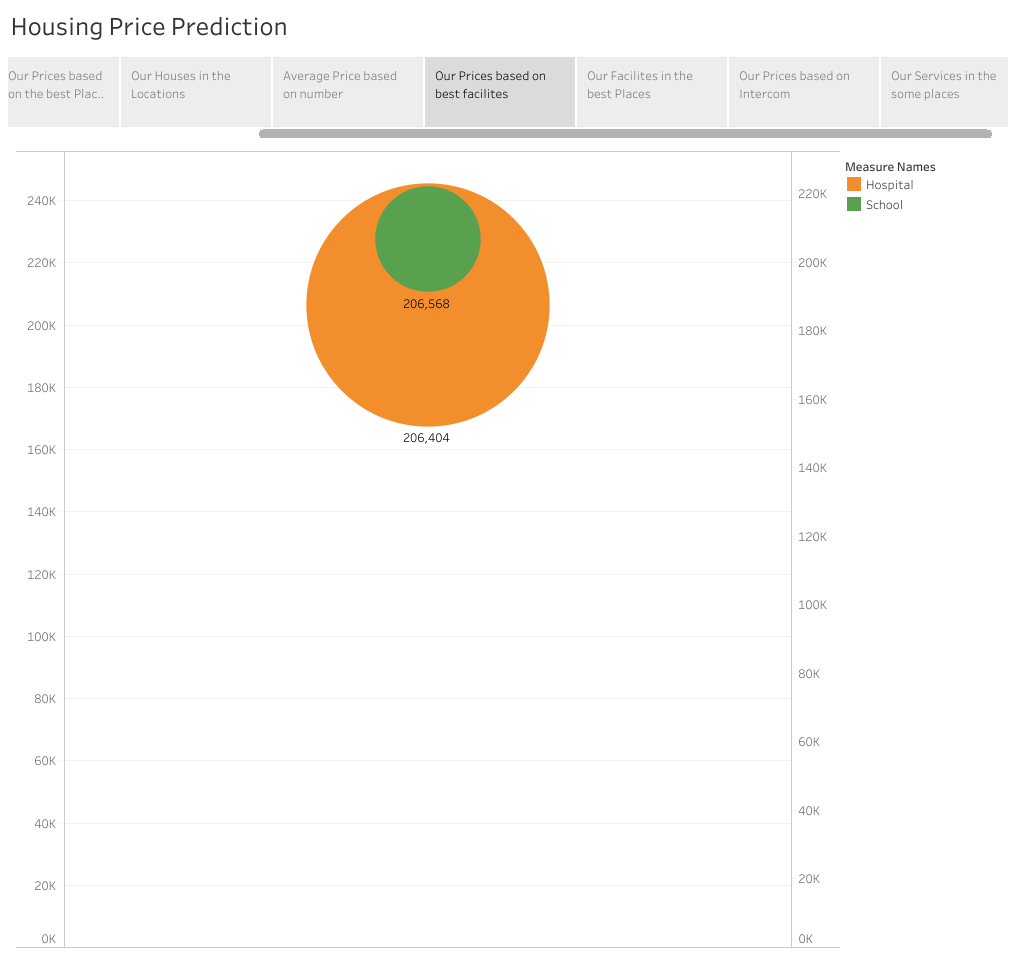

Layout of this report page (visuals, bound fields, positions):
{"tool":"tableau","page":{"name":"Dashboard 3","canvas":[1000,800],"ordinal":2},"visuals":[{"type":"worksheet","title":"Sheet 9","mark":"Pie","box":[8,8,824,392]},{"type":"legend","title":"Sheet 9","param":"[federated.051ejo61k5k1d71gc72n81ba1xm3].[:Measure Names]","box":[832,8,160,282.5]},{"type":"legend","title":"Sheet 9","param":"[federated.051ejo61k5k1d71gc72n81ba1xm3].[Multiple Values]","box":[832,290.5,160,46]},{"type":"filter","title":"Sheet 5","param":"[federated.051ejo61k5k1d71gc72n81ba1xm3].[attr:No. of Bedrooms:qk]","box":[832,336.5,160,69]},{"type":"worksheet","title":"Sheet 5","mark":"Automatic","rows":["Price"],"cols":["Location"],"box":[8,400,824,392]},{"type":"dashboard-object","box":[832,405.5,160,52]},{"type":"dashboard-object","box":[832,457.5,160,52]},{"type":"legend","title":"Sheet 5","param":"[federated.051ejo61k5k1d71gc72n81ba1xm3].[none:Area:ok]","box":[832,509.5,160,282.5]}]}

Visuals, with their boxes on the page's 1000x800 design canvas (x1, y1, x2, y2). These are canvas units, not pixel positions in the 1015x963 screenshot, which may show the page scaled, cropped or inside an application window:
"Sheet 9" worksheet (Pie marks): region(8, 8, 832, 400)
"Sheet 9" legend: region(832, 8, 992, 290)
"Sheet 9" legend: region(832, 290, 992, 336)
"Sheet 5" filter: region(832, 336, 992, 406)
"Sheet 5" worksheet: region(8, 400, 832, 792)
dashboard-object: region(832, 406, 992, 458)
dashboard-object: region(832, 458, 992, 510)
"Sheet 5" legend: region(832, 510, 992, 792)
